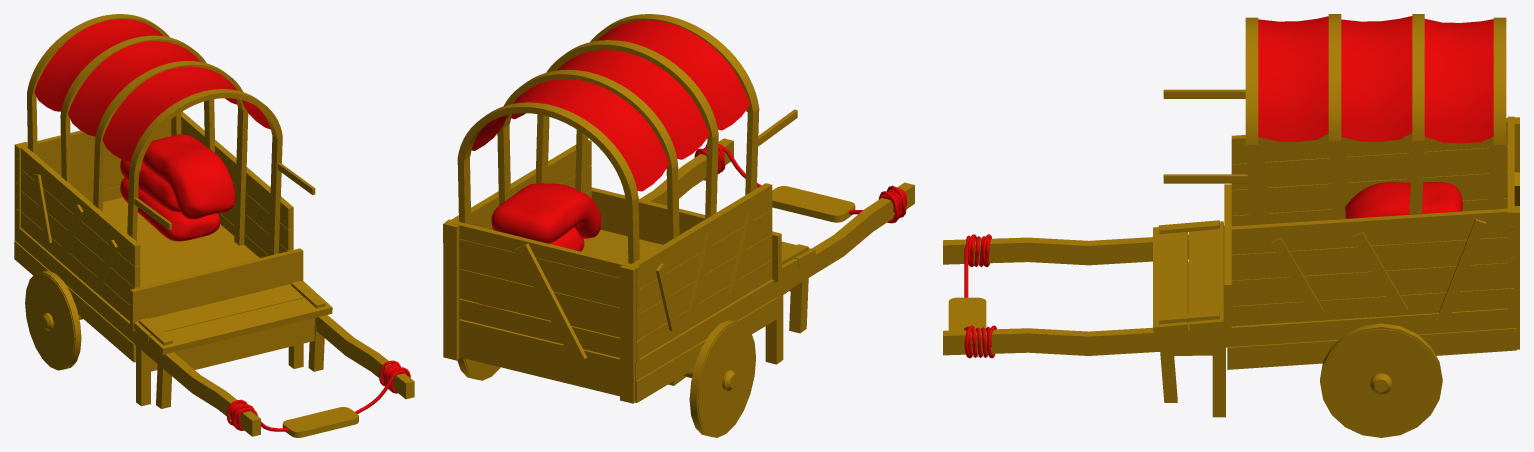
Rendered from SM_Carriage_05.fbx.
3 views of the same model, side by side, from view 1: azimuth 30°, elevation 25°; view 2: azimuth 150°, elevation 25°; view 3: azimuth 270°, elevation 25° (orthographic). The views are drawn at different scales.
Parts seen in each view (by area): view 1: SM_Carriage_05; view 2: SM_Carriage_05; view 3: SM_Carriage_05.
Part boxes in pixels (x1=…): SM_Carriage_05: x1=14, y1=14, x2=414, y2=437; SM_Carriage_05: x1=443, y1=14, x2=914, y2=437; SM_Carriage_05: x1=943, y1=14, x2=1519, y2=437.
Bounding box in the file's own units: 233 × 443 × 299.
